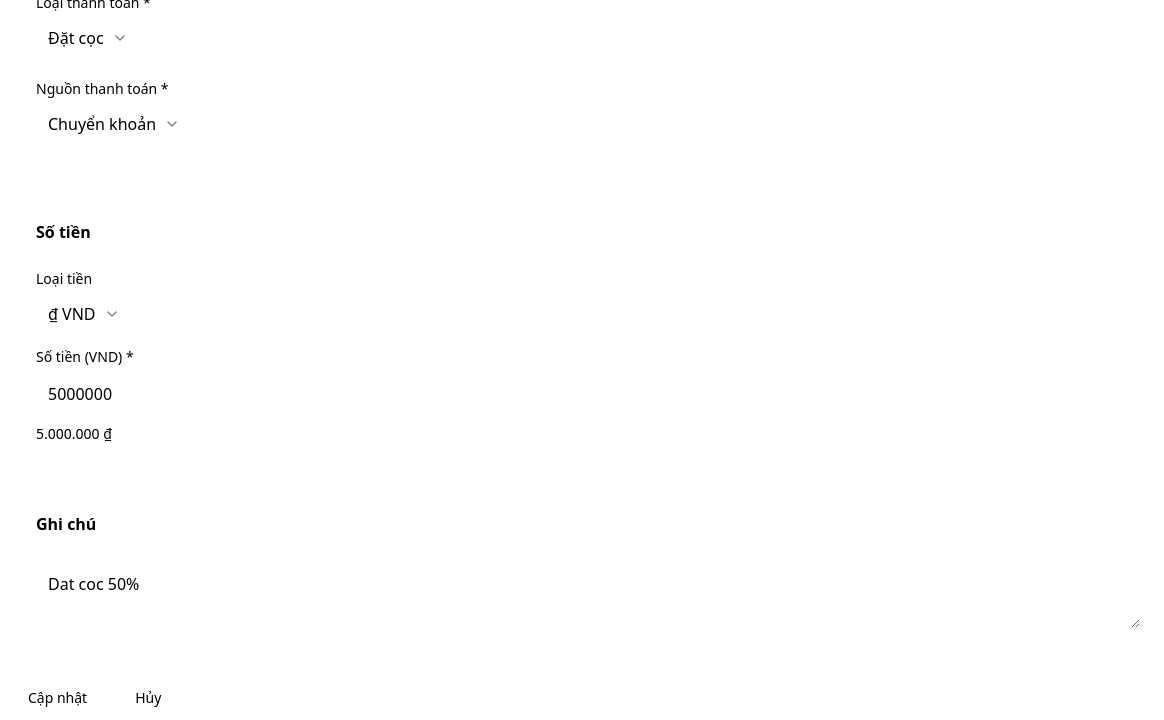
RevenueForm › API Error Handling › displays API error message
(page scrolled)
Step 1. Click the button "Cập nhật" → (58, 698), box x1=12 y1=676 x2=103 y2=719
(page scrolled)
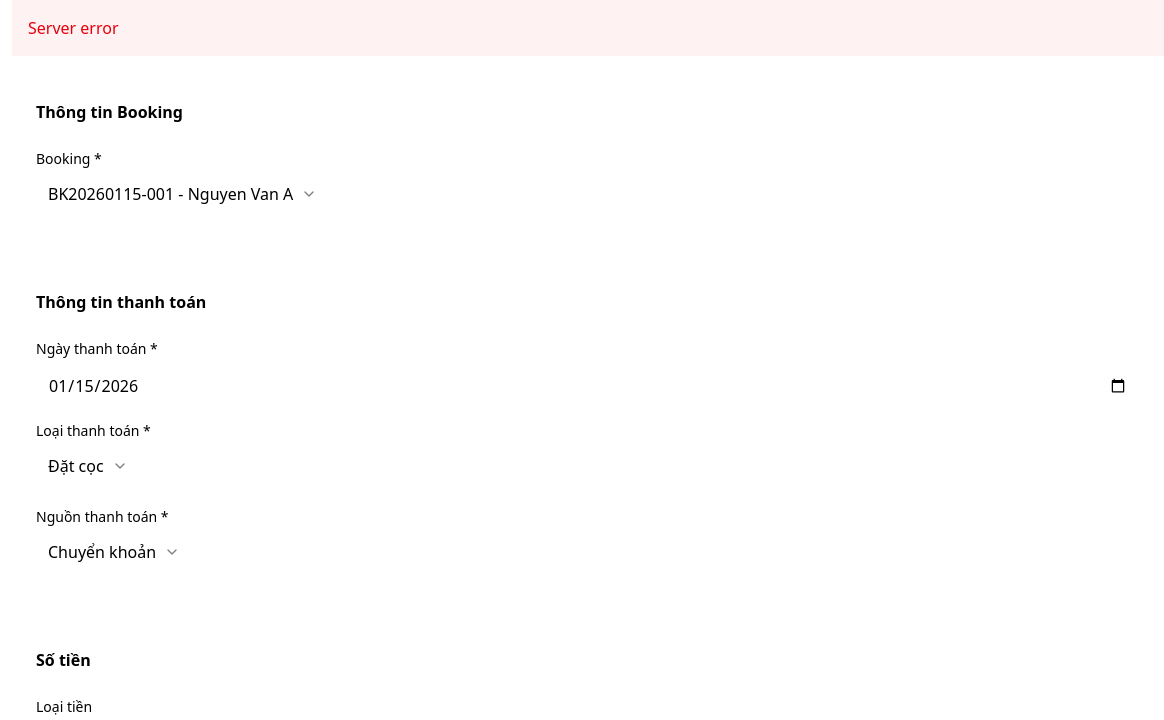
Expected: the text "Server error" is shown, x1=12 y1=0 x2=1163 y2=56
